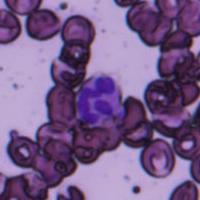N: (77, 72, 123, 128)
